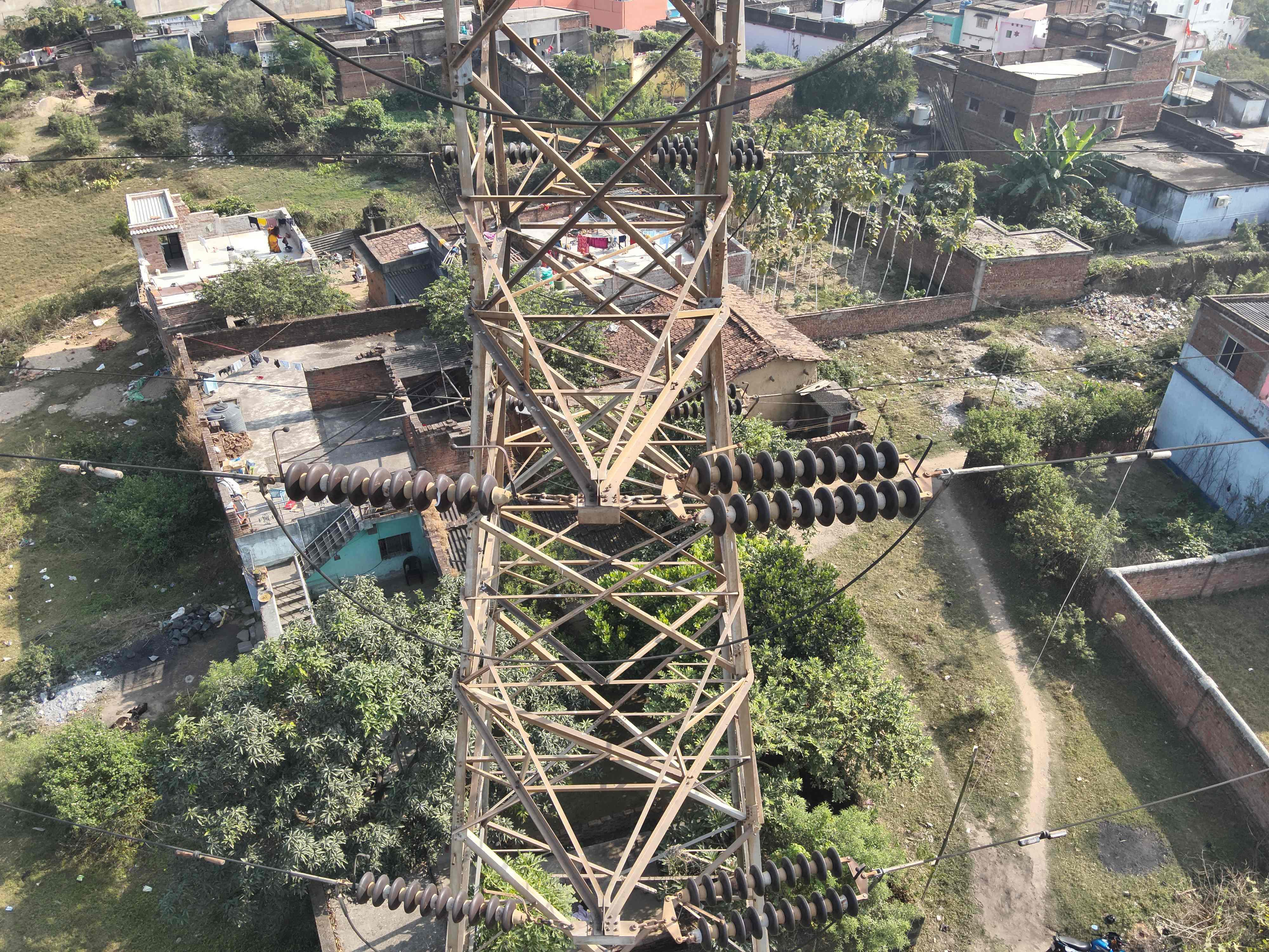broken_insulator: (434, 472, 454, 513)
